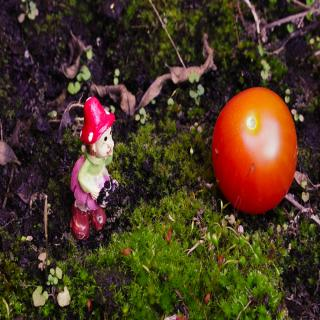tomato: (210, 85, 298, 214)
